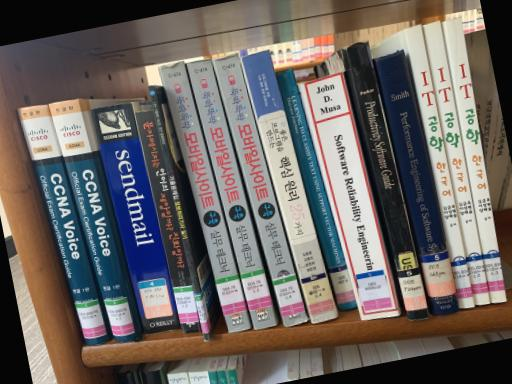book-spine: (239, 50, 338, 324), (213, 53, 308, 327), (158, 61, 251, 332), (299, 72, 399, 320), (187, 58, 276, 330), (344, 40, 429, 320), (373, 50, 459, 316), (49, 98, 142, 343), (17, 104, 111, 346), (91, 102, 180, 335), (275, 68, 357, 311), (406, 24, 474, 309), (423, 20, 490, 305), (443, 18, 507, 303), (148, 86, 210, 341), (134, 109, 201, 334)
